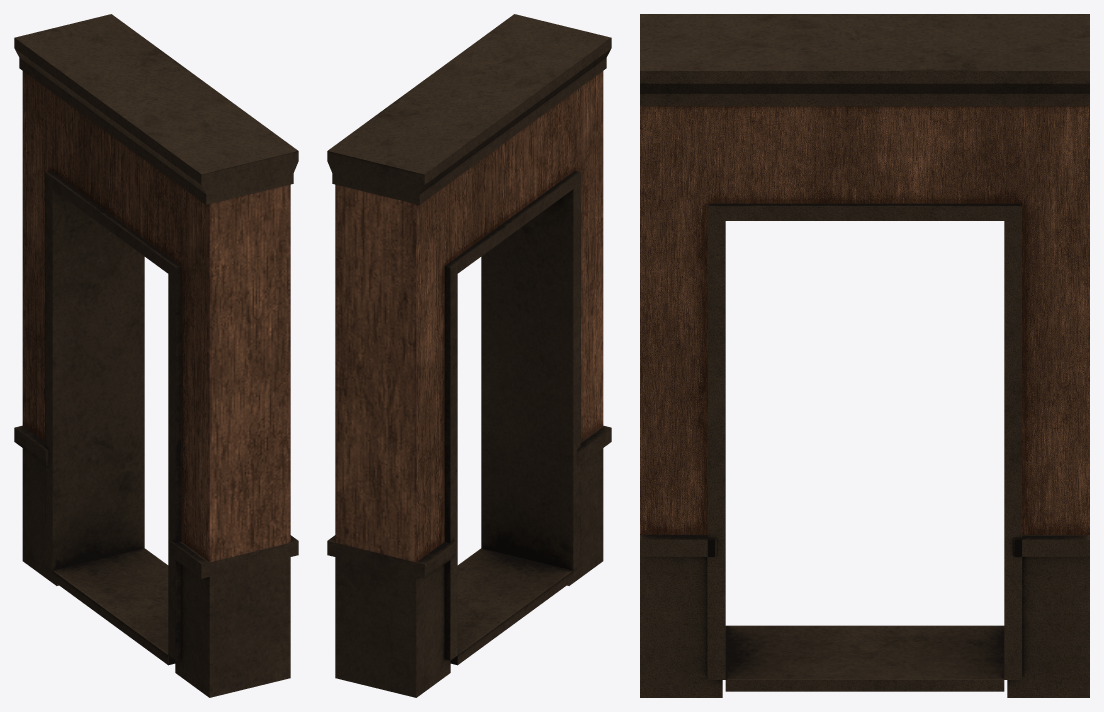
Rendered from walldoor.fbx.
3 views of the same model, side by side, from view 1: azimuth 30°, elevation 25°; view 2: azimuth 150°, elevation 25°; view 3: azimuth 270°, elevation 25° (orthographic). The views are drawn at different scales.
Visible parts, largest first — view 1: walldoor; view 2: walldoor; view 3: walldoor.
Part boxes in pixels (<box>): walldoor: <box>14,14,298,697</box>; walldoor: <box>327,14,611,697</box>; walldoor: <box>640,14,1089,697</box>.
Size of the model in its own units: 59.94 by 310 by 200.
